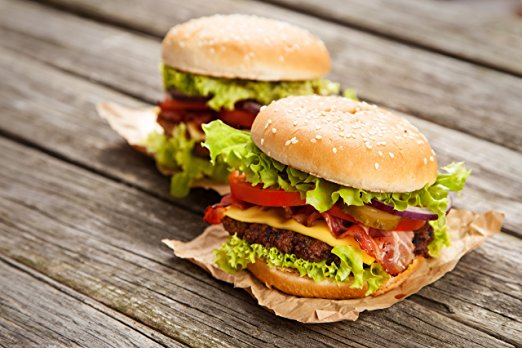hamburger: (231, 90, 440, 313), (153, 19, 337, 176)
